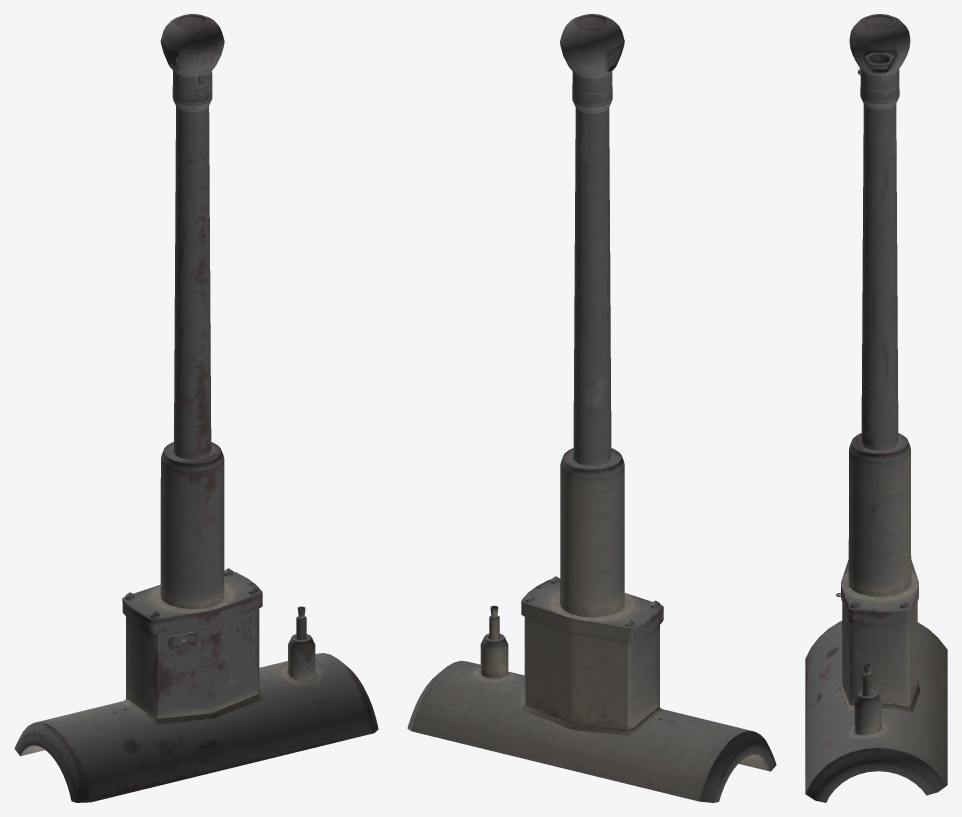
Rendered from Gun_06.glb.
3 views of the same model, side by side, from view 1: azimuth 30°, elevation 25°; view 2: azimuth 150°, elevation 25°; view 3: azimuth 270°, elevation 25° (orthographic). The views are drawn at different scales.
Parts seen in each view (by area): view 1: set_0_group_0; view 2: set_0_group_0; view 3: set_0_group_0.
Boxes of the visible parts, bbox=[...] form: set_0_group_0: bbox=[14, 14, 378, 802]; set_0_group_0: bbox=[407, 14, 776, 802]; set_0_group_0: bbox=[805, 14, 947, 802].
Bounding box in the file's own units: 1.26 × 2.88 × 0.5237.
Materials: 1 (1 with a texture image).
